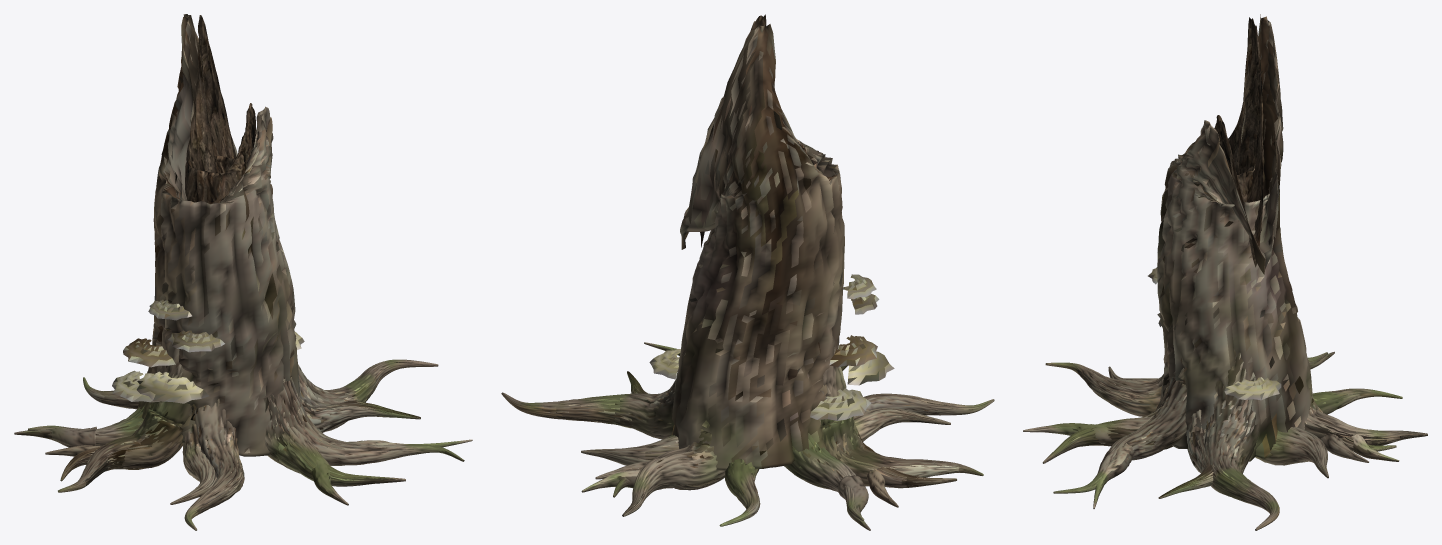
The model's file is twisted-stump-photo-v02.glb.
3 renders of one model, left to right at view 1: azimuth 30°, elevation 25°; view 2: azimuth 150°, elevation 25°; view 3: azimuth 270°, elevation 25°, orthographic. The views are drawn at different scales.
Visible parts, largest first — view 1: Twisted stump | hollow split trunk, roots, shelf mushrooms, Twisted stump | hollow interior; view 2: Twisted stump | hollow split trunk, roots, shelf mushrooms; view 3: Twisted stump | hollow split trunk, roots, shelf mushrooms, Twisted stump | hollow interior.
Boxes of the visible parts, left/top/right/bottom form: Twisted stump | hollow split trunk, roots, shelf mushrooms: left=14, top=14, right=472, bottom=530; Twisted stump | hollow interior: left=185, top=15, right=255, bottom=204; Twisted stump | hollow split trunk, roots, shelf mushrooms: left=501, top=24, right=994, bottom=530; Twisted stump | hollow split trunk, roots, shelf mushrooms: left=1023, top=14, right=1427, bottom=530; Twisted stump | hollow interior: left=1214, top=17, right=1263, bottom=267.
Bounding box in the file's own units: 4.48 × 4.46 × 3.9.
2 materials, 2 textured.
